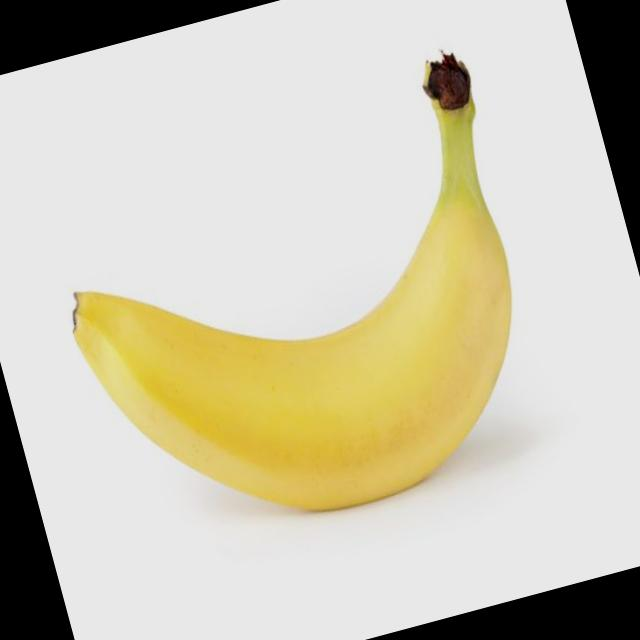banana: (42, 103, 562, 583)
